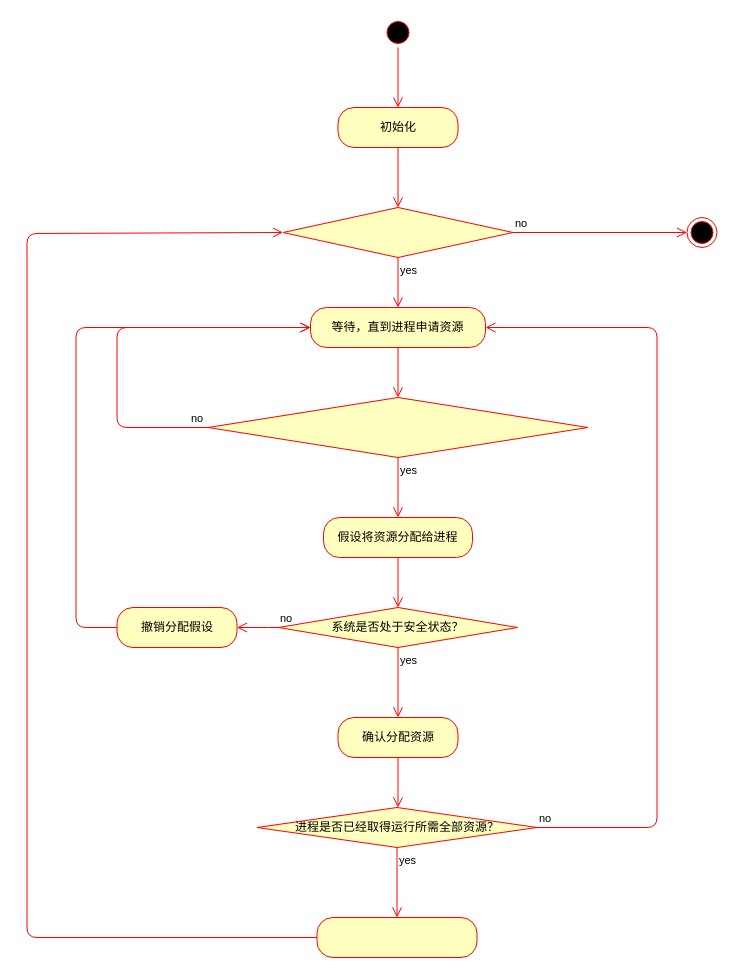
The diagram is 734 pixels wide and 975 high, and some of its shapes have lost their labels. The shapes that lost their labels are listed below. From the top down, each one's centre as x and y in pixels, then its label:
At (x=397, y=232): "是否有进程尚未完成？".
At (x=397, y=427): "系统中可用资源数量上是否能满足进程的申请？".
At (x=396, y=937): "进程运行完毕并释放资源".
